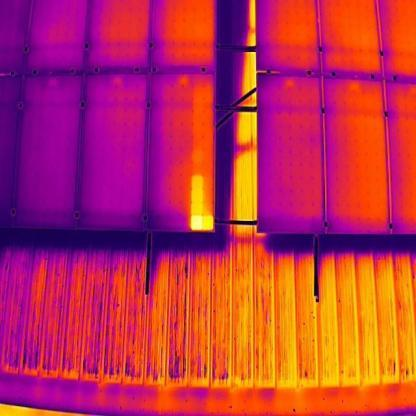anomaly: (189, 173, 217, 232)
